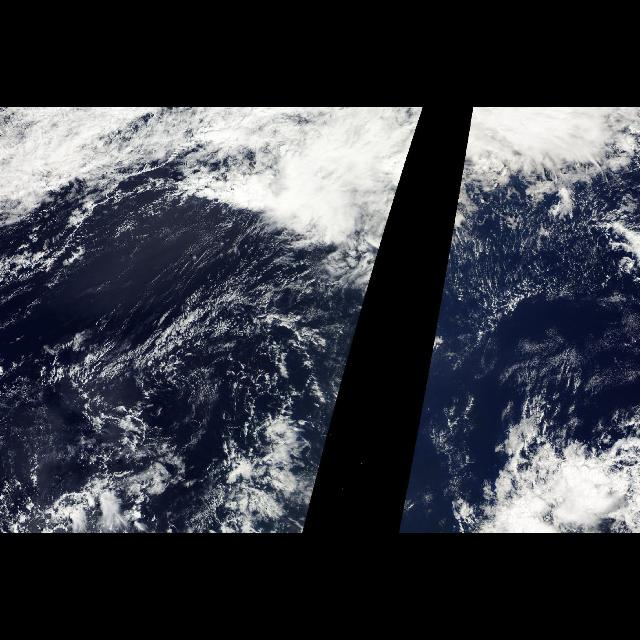Sugar: (435, 167, 637, 403)
